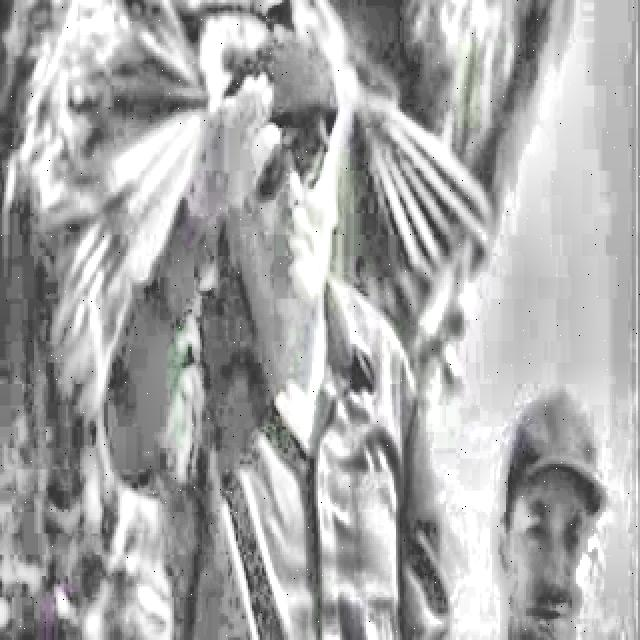T: (101, 23, 452, 638)
